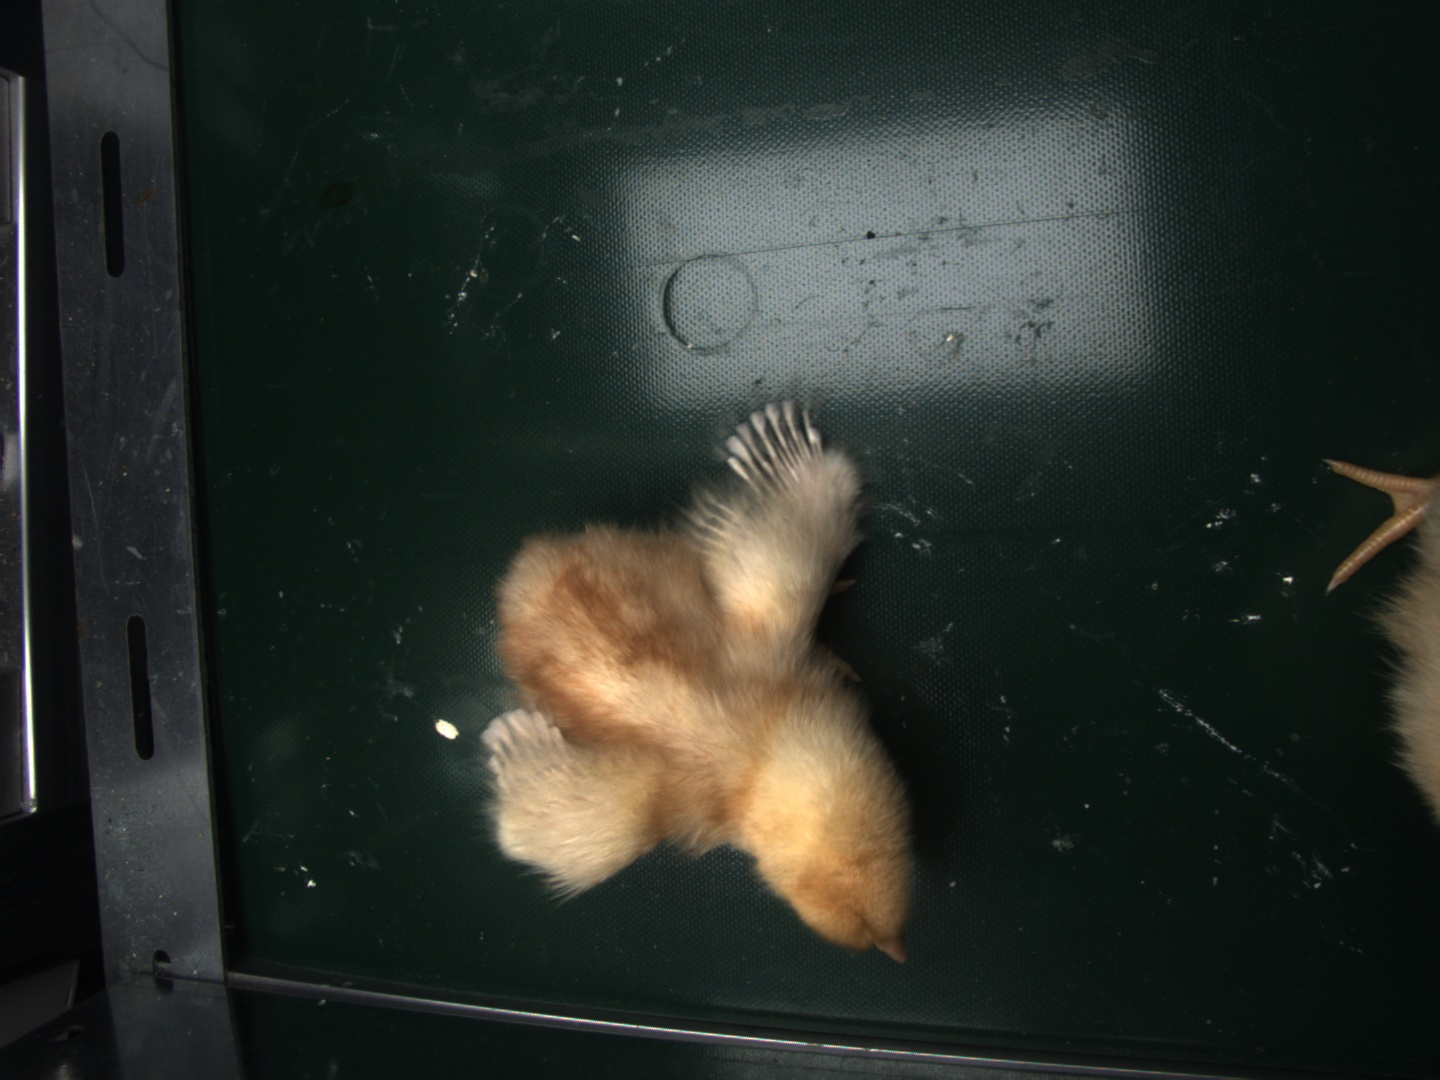female: (723, 400, 822, 491)
